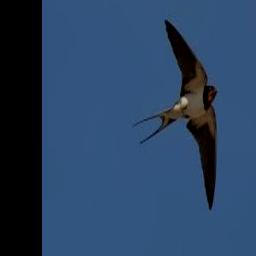Swallow: (133, 19, 219, 211)
